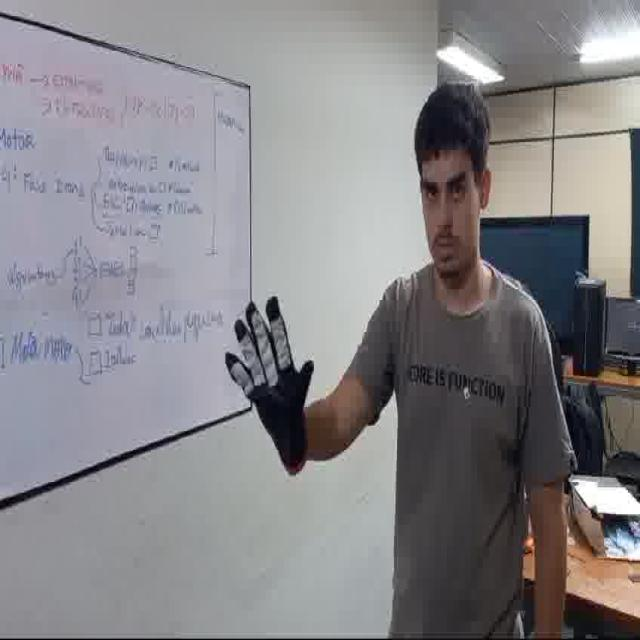Gloves: (217, 287, 321, 478)
